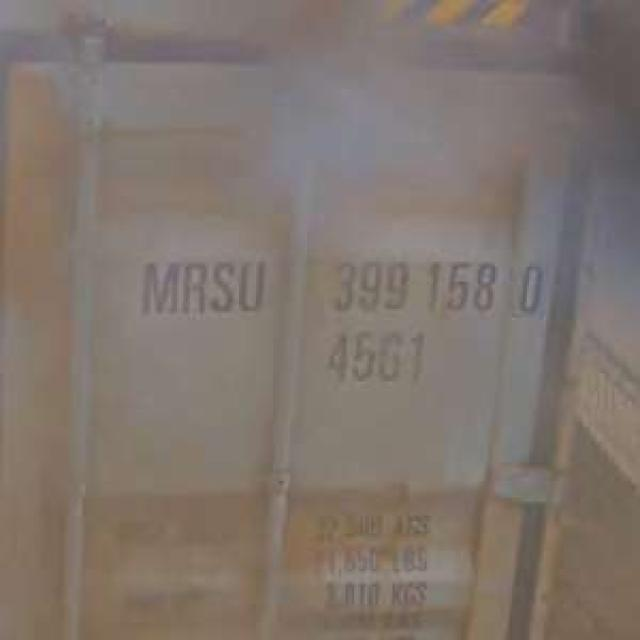dv: (510, 254, 550, 318)
owner: (132, 247, 271, 322)
serial: (318, 251, 501, 320)
size: (318, 324, 433, 389)
